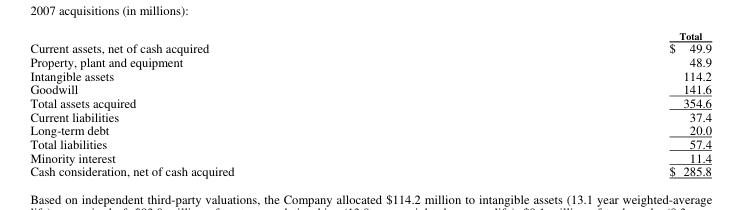table: (29, 28, 711, 178)
table column: (29, 28, 451, 178), (451, 28, 711, 178)
table column header: (29, 28, 711, 40)
table row: (29, 163, 711, 178), (29, 40, 711, 54), (29, 67, 711, 81), (29, 81, 711, 95), (29, 108, 711, 122), (29, 122, 711, 136), (29, 149, 711, 163), (29, 54, 711, 67), (29, 95, 711, 108), (29, 136, 711, 149), (29, 28, 711, 40)
